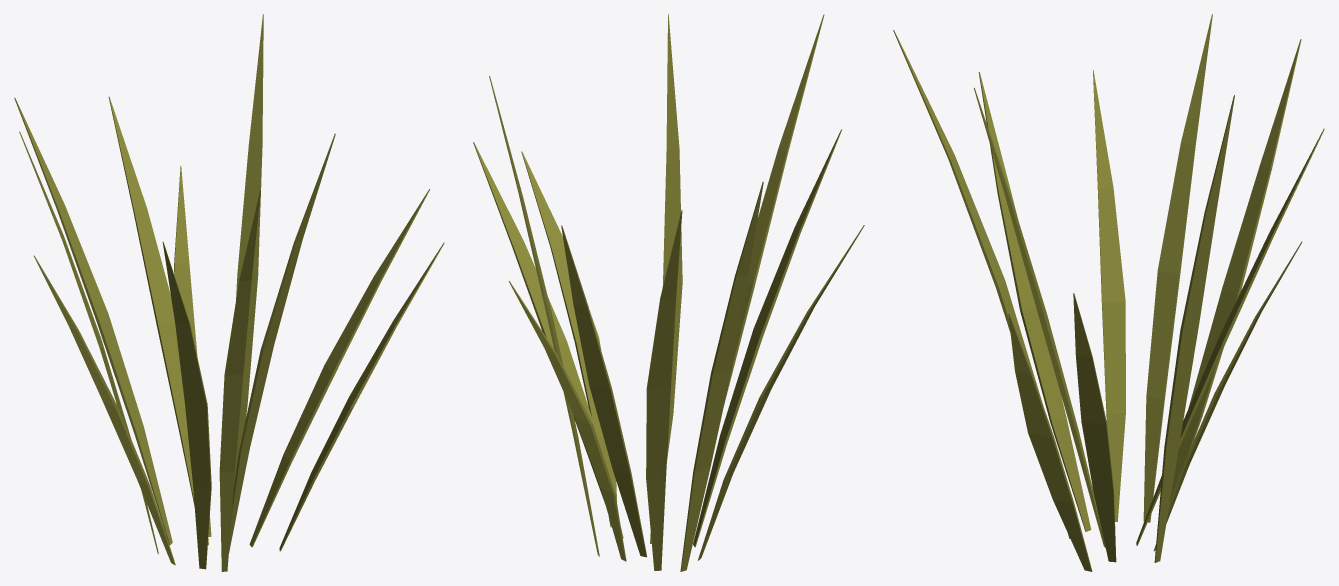
Rendered from plant_005b_tall_grass.glb.
3 renders of one model, left to right at view 1: azimuth 30°, elevation 25°; view 2: azimuth 150°, elevation 25°; view 3: azimuth 270°, elevation 25°, orthographic. The views are drawn at different scales.
Visible parts, largest first — view 1: plant_005b_tall_grass__blades; view 2: plant_005b_tall_grass__blades; view 3: plant_005b_tall_grass__blades.
Boxes of the visible parts, x1=… form: plant_005b_tall_grass__blades: x1=14, y1=14, x2=444, y2=571; plant_005b_tall_grass__blades: x1=473, y1=14, x2=864, y2=571; plant_005b_tall_grass__blades: x1=893, y1=14, x2=1324, y2=571.
Bounding box in the file's own units: 1.12 × 1.3 × 1.01.
